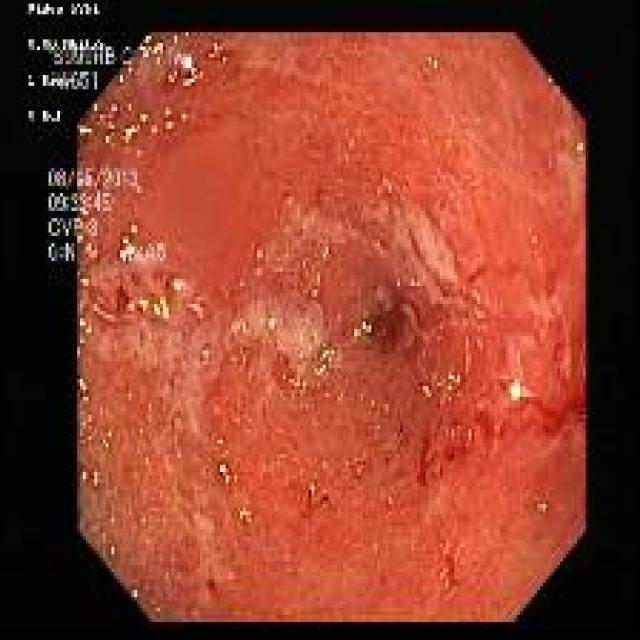ulcerative-colitis: (71, 31, 586, 623)
